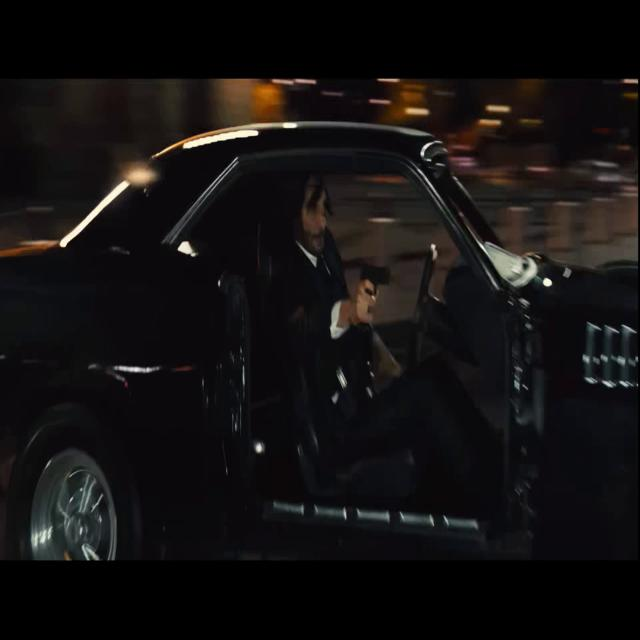weapons: (344, 250, 400, 334)
